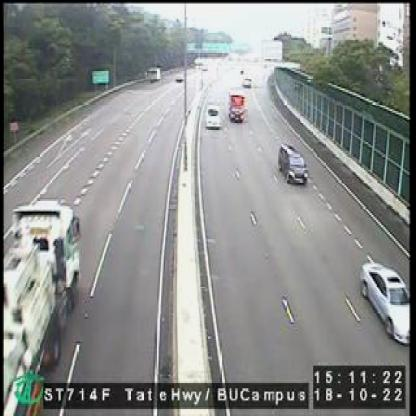Bus: (229, 89, 247, 125)
Car: (357, 260, 411, 345), (278, 142, 310, 187), (206, 104, 223, 131), (146, 67, 162, 84), (174, 71, 184, 84)
Truck: (4, 196, 84, 407)
